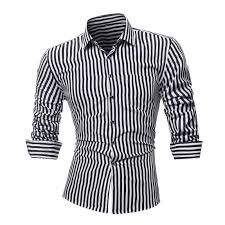striped: (23, 12, 206, 216)
